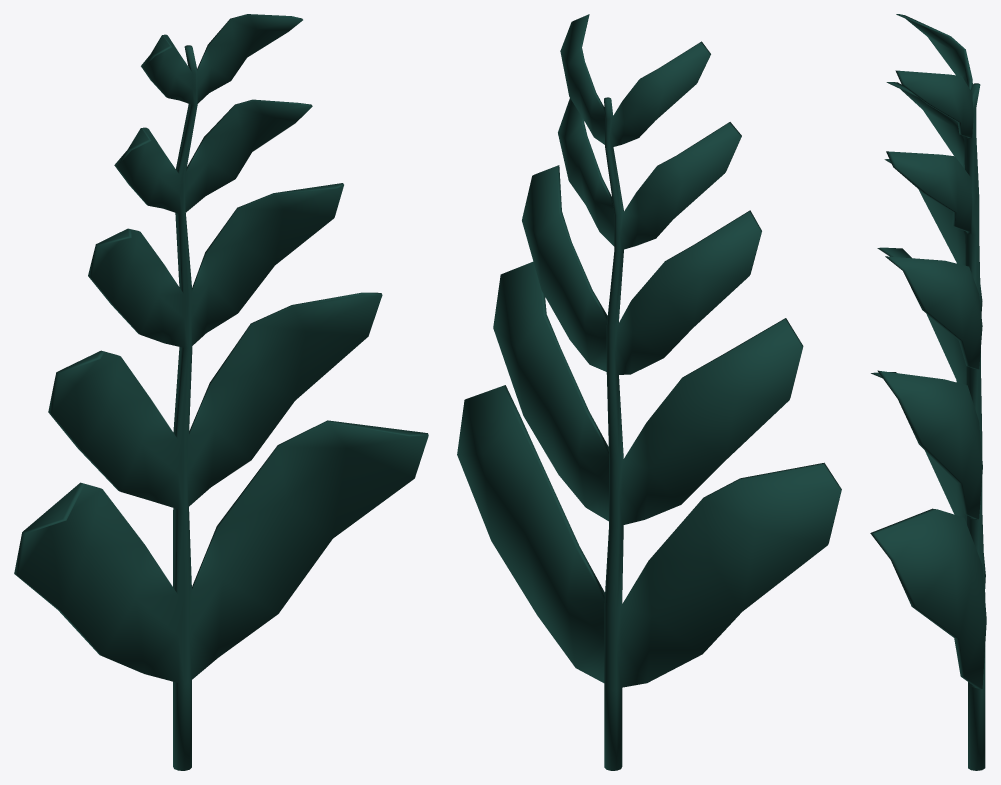
The model's file is fern2.fbx.
The picture shows the model from 3 angles, left to right: view 1: azimuth 30°, elevation 25°; view 2: azimuth 150°, elevation 25°; view 3: azimuth 270°, elevation 25°; orthographic projection. The views are drawn at different scales.
Visible parts, largest first — view 1: fern2; view 2: fern2; view 3: fern2.
Boxes of the visible parts, x1,y1,x2,y2 form: fern2: (14, 14, 428, 770); fern2: (457, 14, 841, 770); fern2: (870, 14, 986, 770).
Size of the model in its own units: 0.4845 by 0.8719 by 0.1265.
